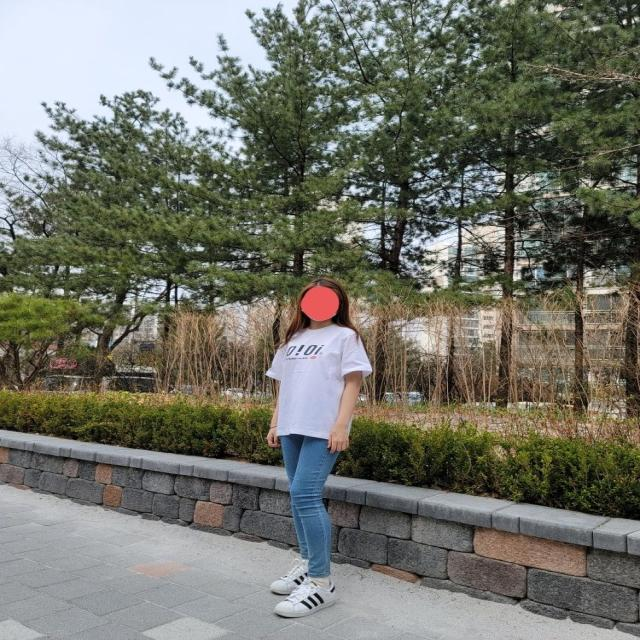denimpants: (281, 436, 338, 582)
shortsleeve: (265, 320, 373, 438)
